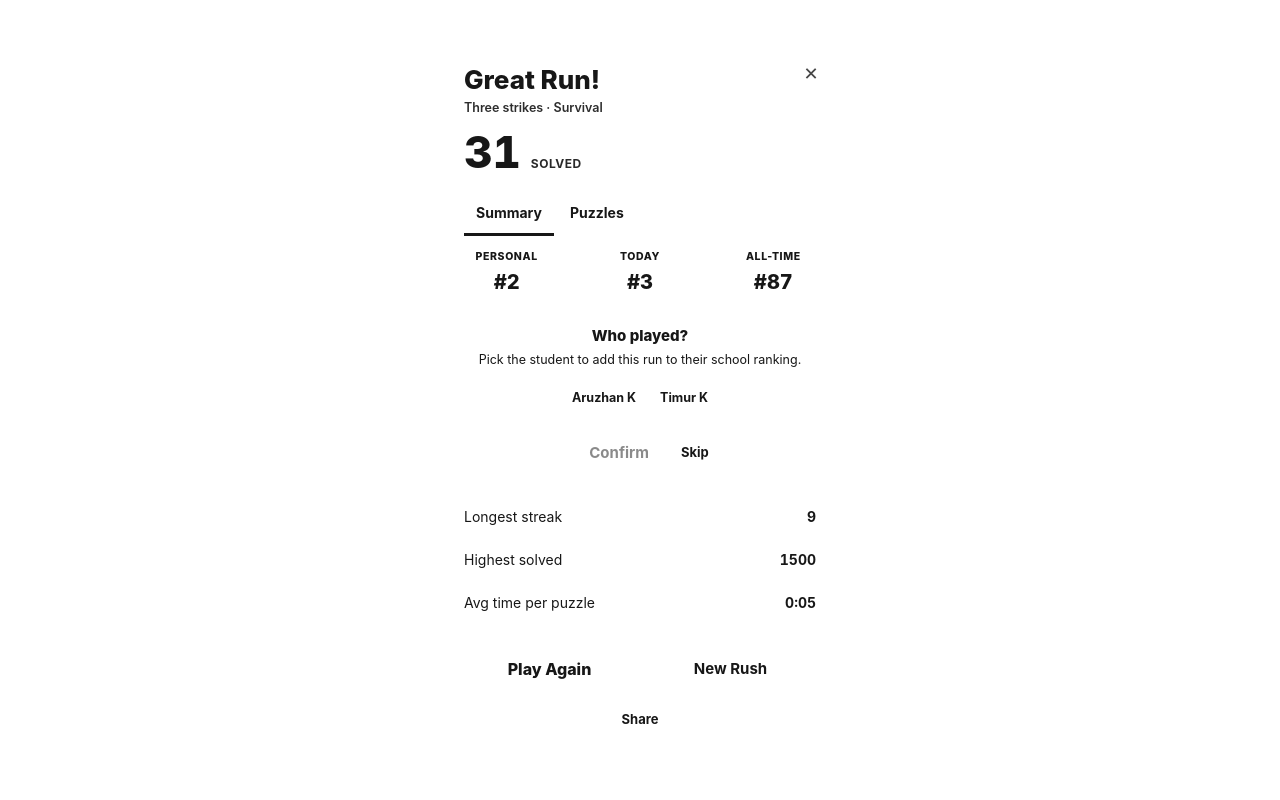
Test: ResultsModal school outcome › needs_student: no valid remembered pick → Confirm disabled until a pick; Skip pushes nothing
Check: the button "Confirm" is disabled, box [571,428,667,477]
Click the radio button labelled "Aruzhan K".
click(604, 398)  # box [560,383,648,414]
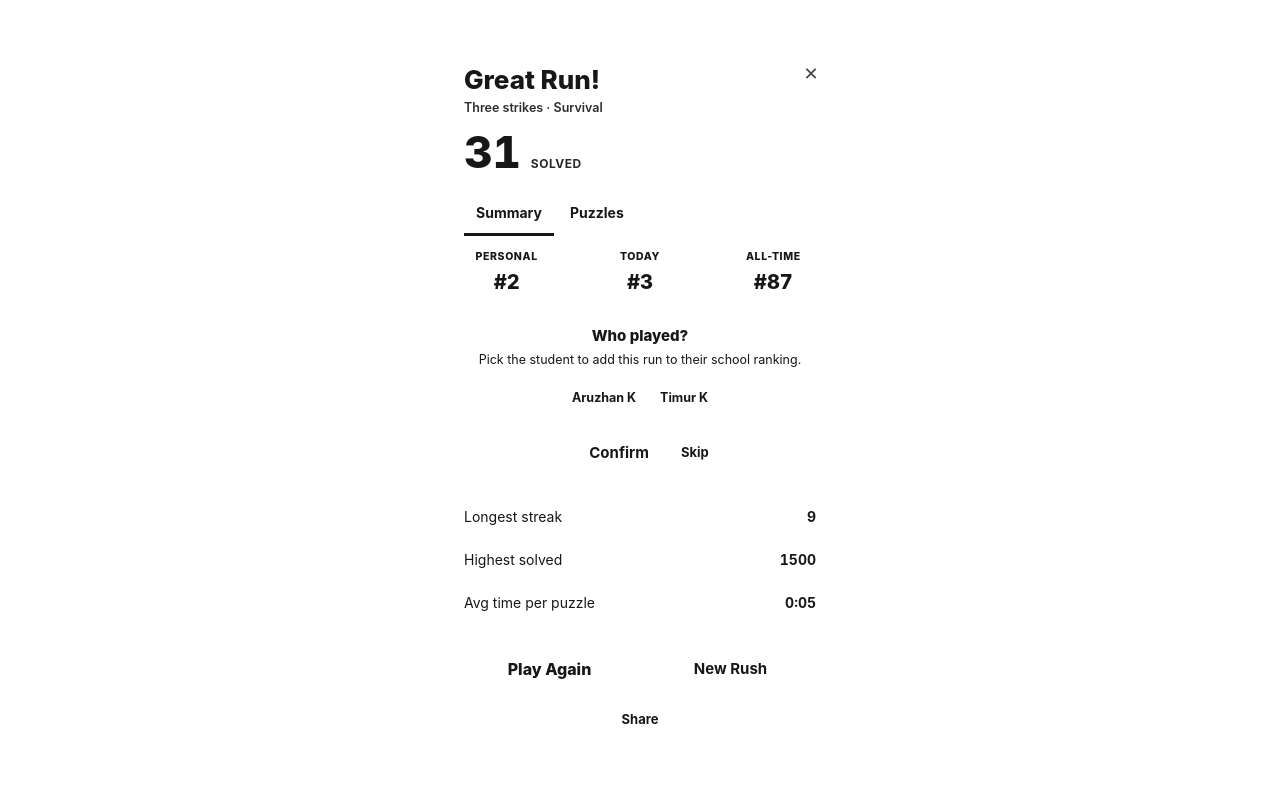
Check: the button "Confirm" is enabled, box [571,428,667,477]
Click the button "Skip".
click(695, 453)  # box [681,439,709,466]
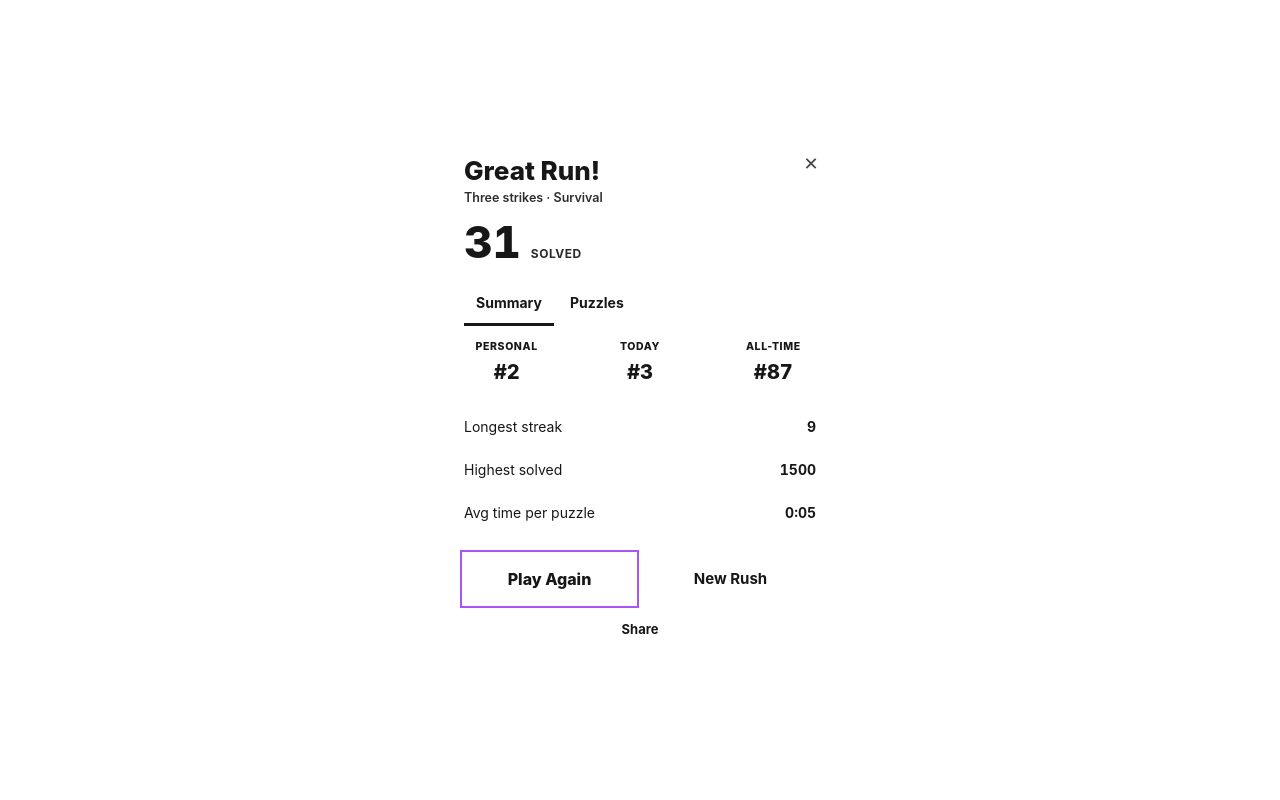
Check: the element with test id "rush-school" is gone
